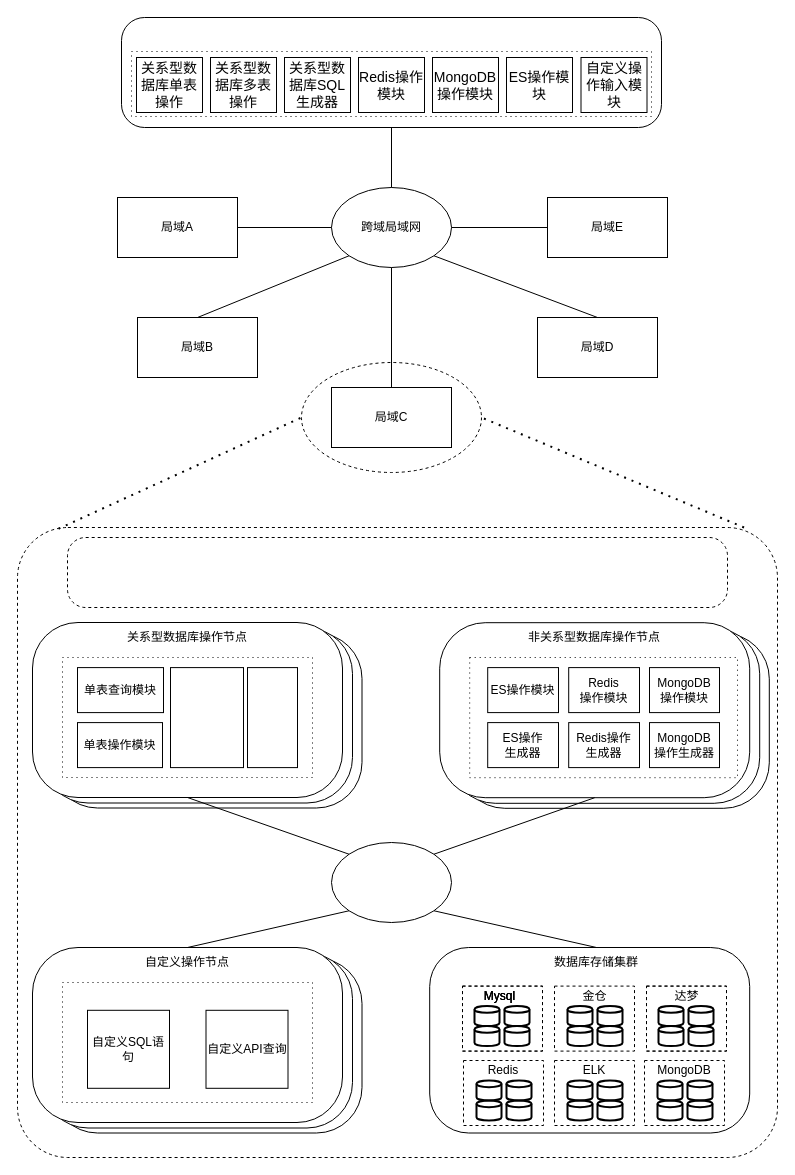
This 795x1175 diagram has some shape labels left out. Here are the shapes that lost their labels. From the top down, the box of each, then its label:
(120, 16, 662, 128): 数据库资源操作平台
(66, 536, 728, 608): 平台访问接口
(170, 667, 244, 768): 多表连接查询模块
(246, 667, 298, 768): SQL 生成器
(330, 842, 452, 922): 局域网
